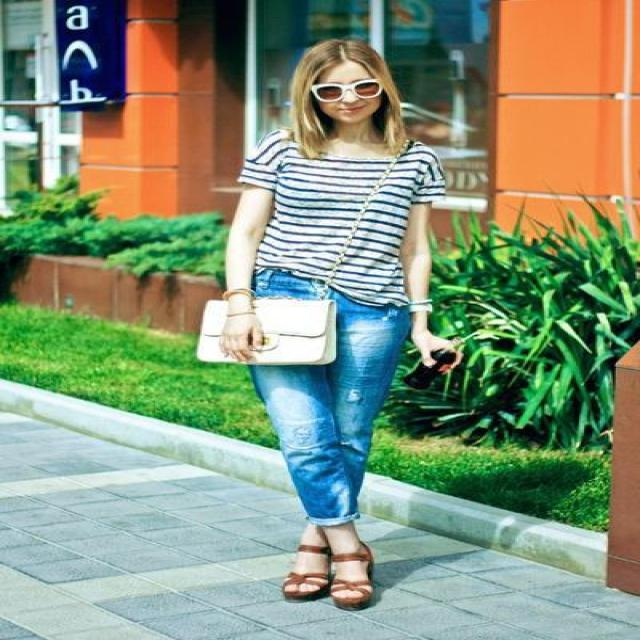bag: (197, 294, 334, 364)
pants: (246, 270, 429, 520)
shirt: (227, 143, 443, 319)
shoe: (282, 563, 326, 601)
sunglass: (307, 69, 341, 111)
